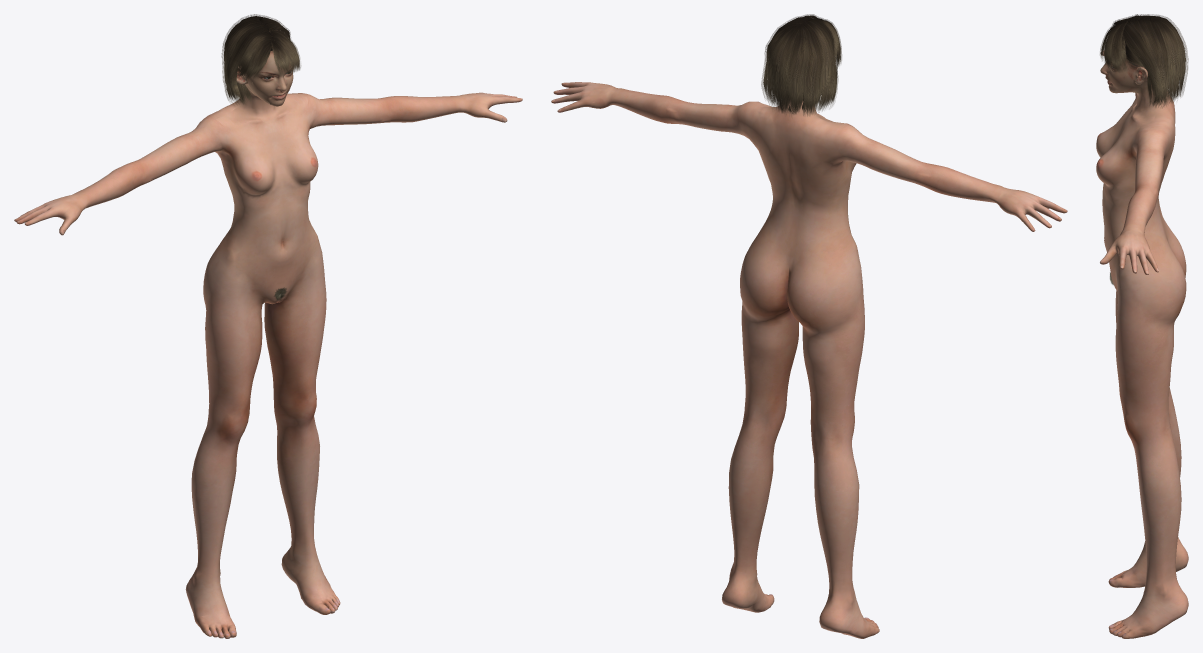
The model's file is nude_woman.glb.
3 views of the same model, side by side, from view 1: azimuth 30°, elevation 25°; view 2: azimuth 150°, elevation 25°; view 3: azimuth 270°, elevation 25° (orthographic). The views are drawn at different scales.
Visible parts, largest first — view 1: Object_4, Object_6, Object_7, Object_5; view 2: Object_4, Object_6, Object_7; view 3: Object_4, Object_6, Object_7, Object_5, Object_8.
Part boxes in pixels (x1,y1,x2,y2): Object_4: [14, 92, 522, 638]; Object_6: [224, 16, 299, 103]; Object_7: [221, 14, 300, 103]; Object_5: [236, 50, 293, 106]; Object_4: [551, 82, 1067, 638]; Object_6: [763, 15, 840, 113]; Object_7: [761, 14, 841, 115]; Object_4: [1096, 51, 1188, 638]; Object_6: [1101, 15, 1185, 105]; Object_7: [1100, 14, 1188, 107]; Object_5: [1100, 45, 1153, 93]; Object_8: [1101, 38, 1182, 105].
Bounding box in the file's own units: 29.19 × 33.21 × 4.71.
Materials: 10 (10 with a texture image).
